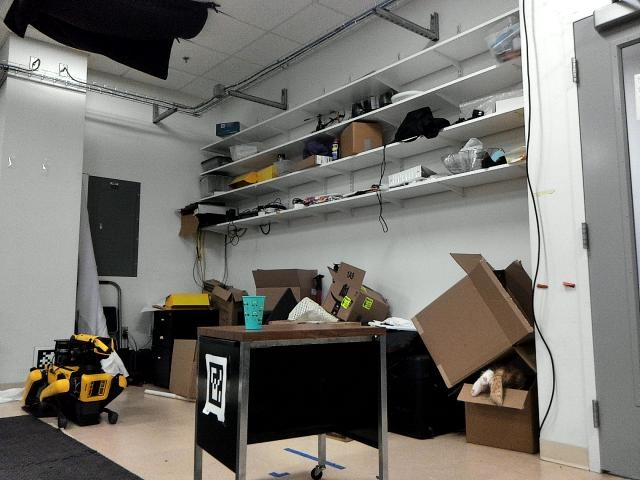coffee_cup: (240, 294, 268, 328)
